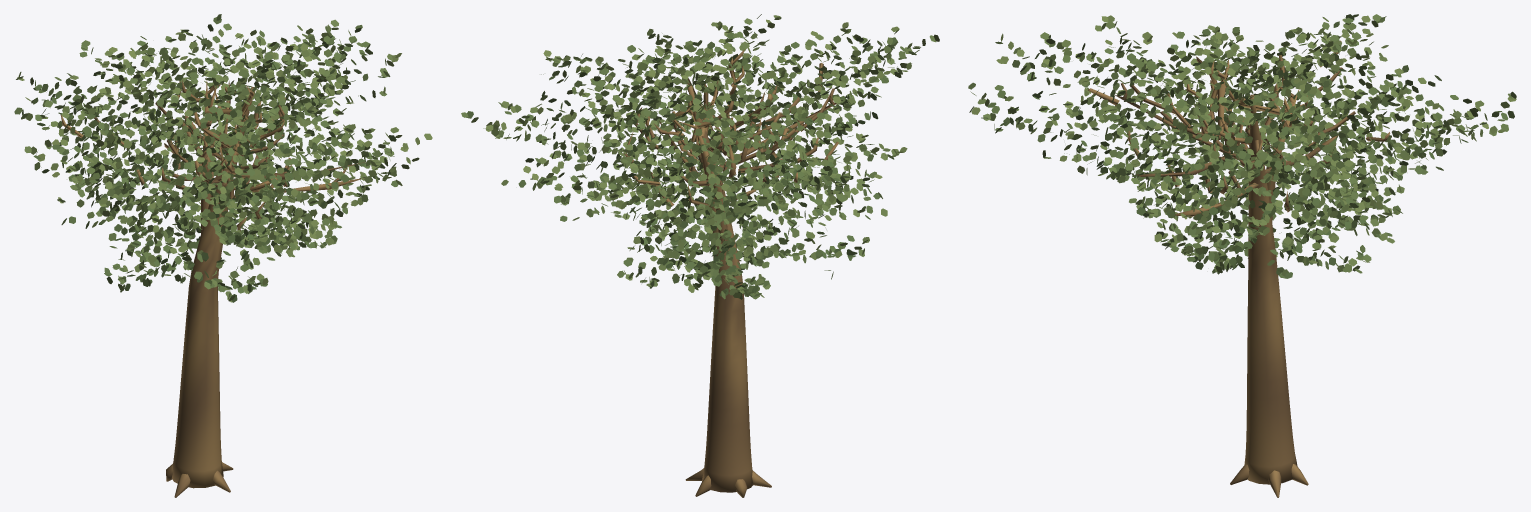
File: green_columnar_lod2.glb
3 views of the same model, side by side, from view 1: azimuth 30°, elevation 25°; view 2: azimuth 150°, elevation 25°; view 3: azimuth 270°, elevation 25° (orthographic). The views are drawn at different scales.
Visible parts, largest first — view 1: Leaves.005, Trunk.005; view 2: Leaves.005, Trunk.005; view 3: Leaves.005, Trunk.005.
Boxes of the visible parts, x1,y1,x2,y2 form: Leaves.005: (14, 14, 432, 302); Trunk.005: (60, 77, 365, 497); Leaves.005: (461, 14, 939, 299); Trunk.005: (623, 49, 838, 497); Leaves.005: (968, 14, 1516, 278); Trunk.005: (1088, 40, 1390, 497).
Size of the model in its own units: 5.36 by 5.87 by 6.58.
